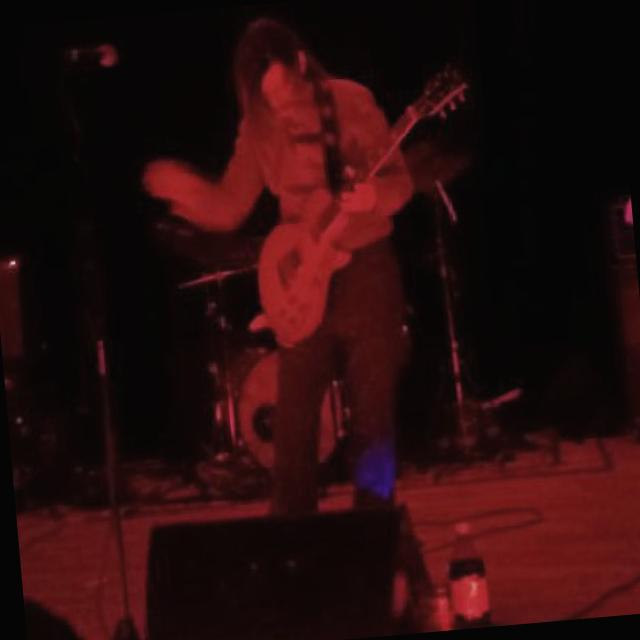Person: (133, 0, 425, 501)
